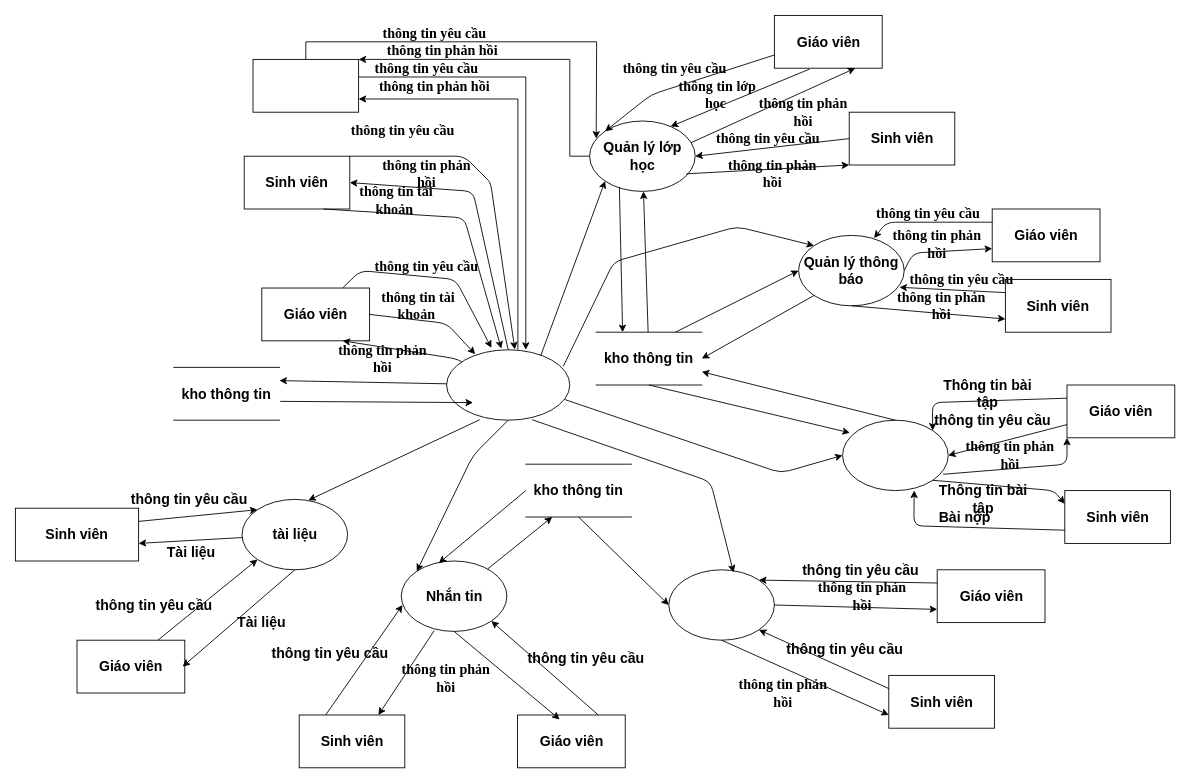
Some shapes in this 1191 by 783 pixel diagram are drawn without their labels. Each missing label, with the box of its shape:
Admin: (252, 59, 359, 112)
Quản lý bài tập: (842, 419, 948, 491)
Quản lý tài khoản: (446, 349, 570, 420)
thống kê điểm: (668, 569, 774, 640)
